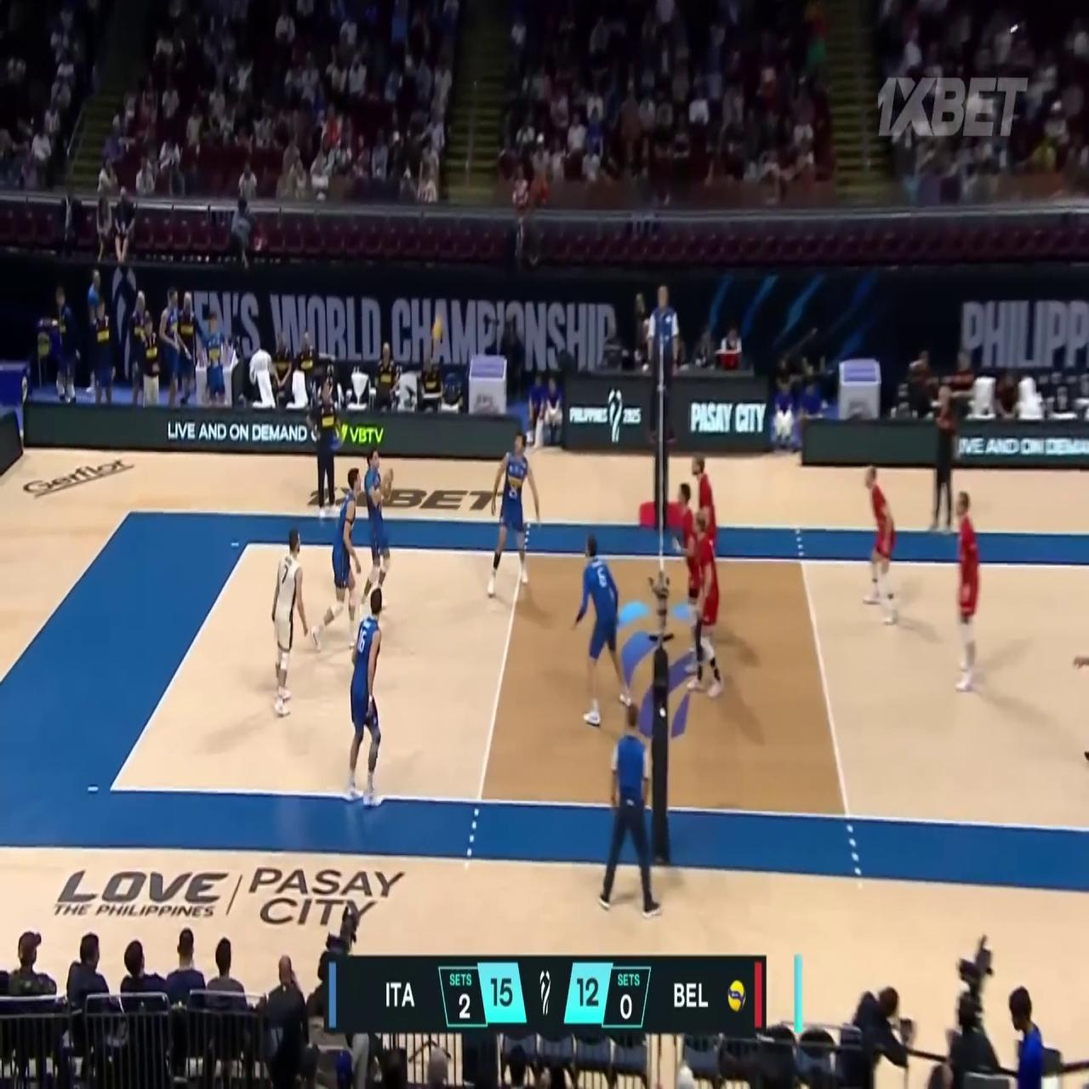ball: (432, 318, 442, 342)
